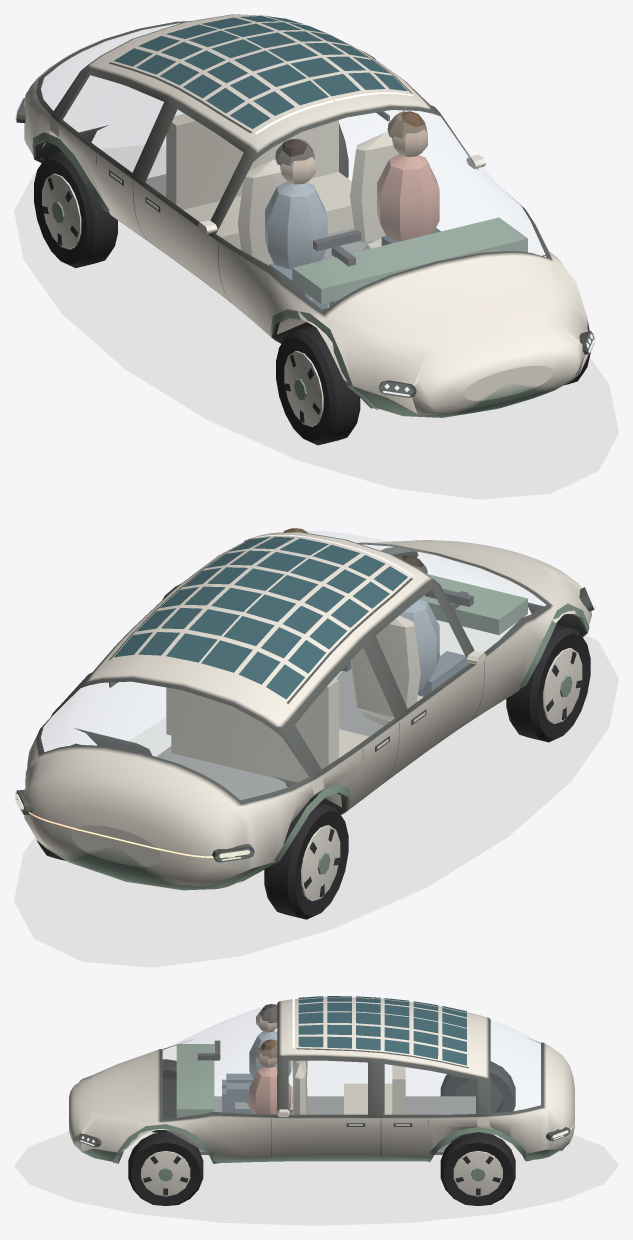
File: car-green-2127-r2.glb
The picture shows the model from 3 angles, top to bottom: view 1: azimuth 30°, elevation 25°; view 2: azimuth 150°, elevation 25°; view 3: azimuth 270°, elevation 25°; orthographic projection. The views are drawn at different scales.
Visible parts, largest first — view 1: car_green_parts, car_green_shell, car_green_shell_lit; view 2: car_green_parts, car_green_shell, car_green_shell_lit; view 3: car_green_parts, car_green_shell, car_green_shell_lit.
Part boxes in pixels (bbox=[...]): car_green_parts: bbox=[14, 98, 618, 499]; car_green_shell: bbox=[23, 14, 591, 417]; car_green_shell_lit: bbox=[41, 17, 545, 310]; car_green_parts: bbox=[14, 528, 618, 967]; car_green_shell: bbox=[24, 532, 591, 890]; car_green_shell_lit: bbox=[28, 531, 545, 857]; car_green_parts: bbox=[14, 1004, 618, 1225]; car_green_shell: bbox=[69, 996, 574, 1163]; car_green_shell_lit: bbox=[163, 998, 575, 1135].
Size of the model in its own units: 2.6 by 1.56 by 5.5.
